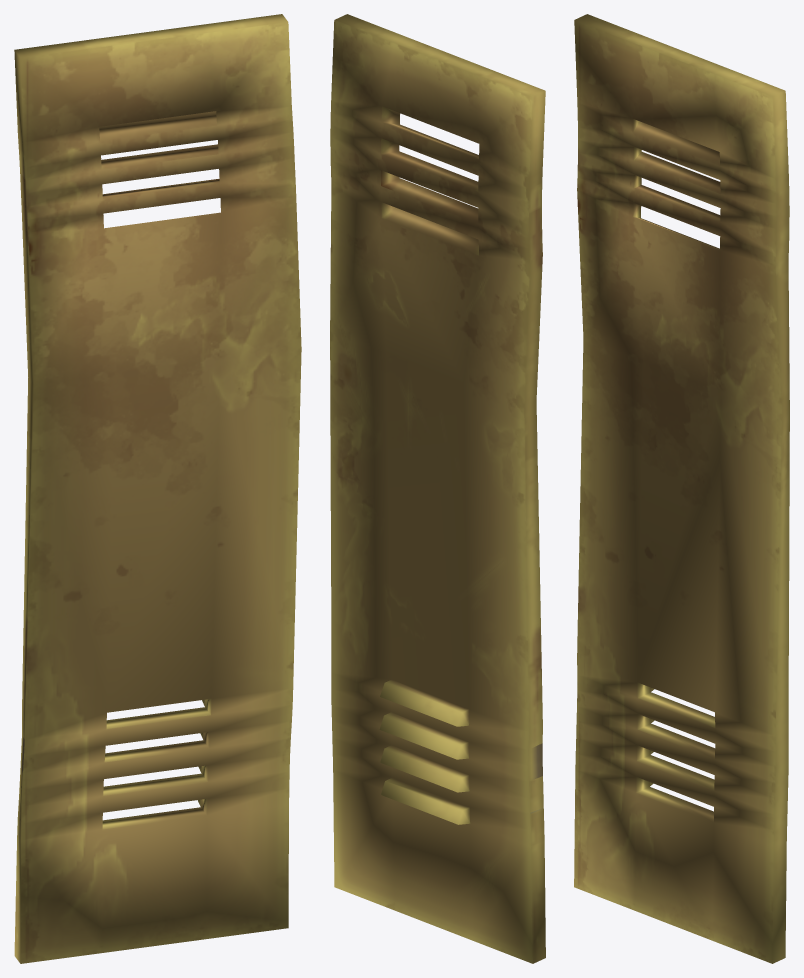
Rendered from second_level_locker.fbx.
The picture shows the model from 3 angles, left to right: view 1: azimuth 30°, elevation 25°; view 2: azimuth 150°, elevation 25°; view 3: azimuth 330°, elevation 25°; orthographic projection. The views are drawn at different scales.
Visible parts, largest first — view 1: l1_low; view 2: l1_low; view 3: l1_low.
Part boxes in pixels (x1,y1,x2,y2): l1_low: [14, 14, 301, 963]; l1_low: [330, 14, 545, 963]; l1_low: [574, 14, 789, 963].
Size of the model in its own units: 186 by 648 by 56.03.
